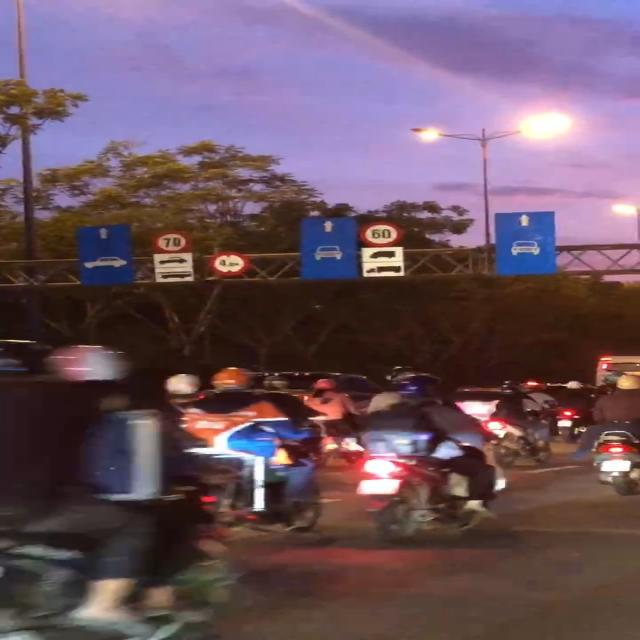Bien bao han che chieu cao: (210, 251, 252, 276)
Bien bao toc do toi da cho phep: (356, 222, 406, 248), (150, 232, 190, 254)
